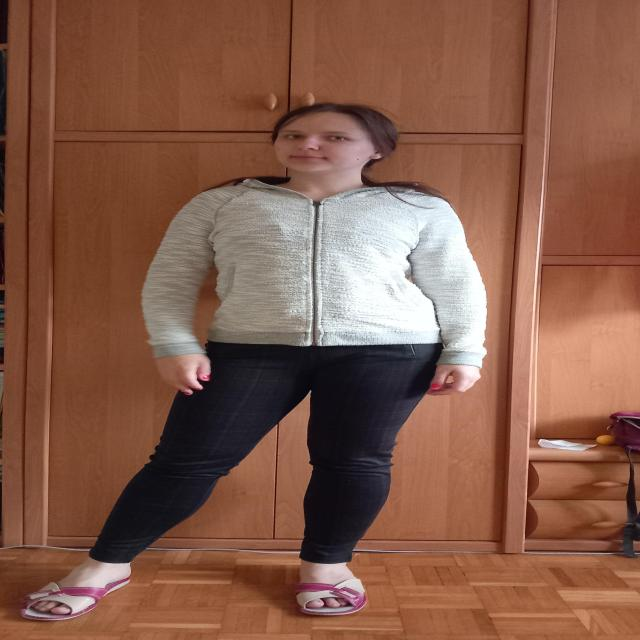pants: (87, 340, 447, 564)
sweater: (142, 178, 488, 368)
